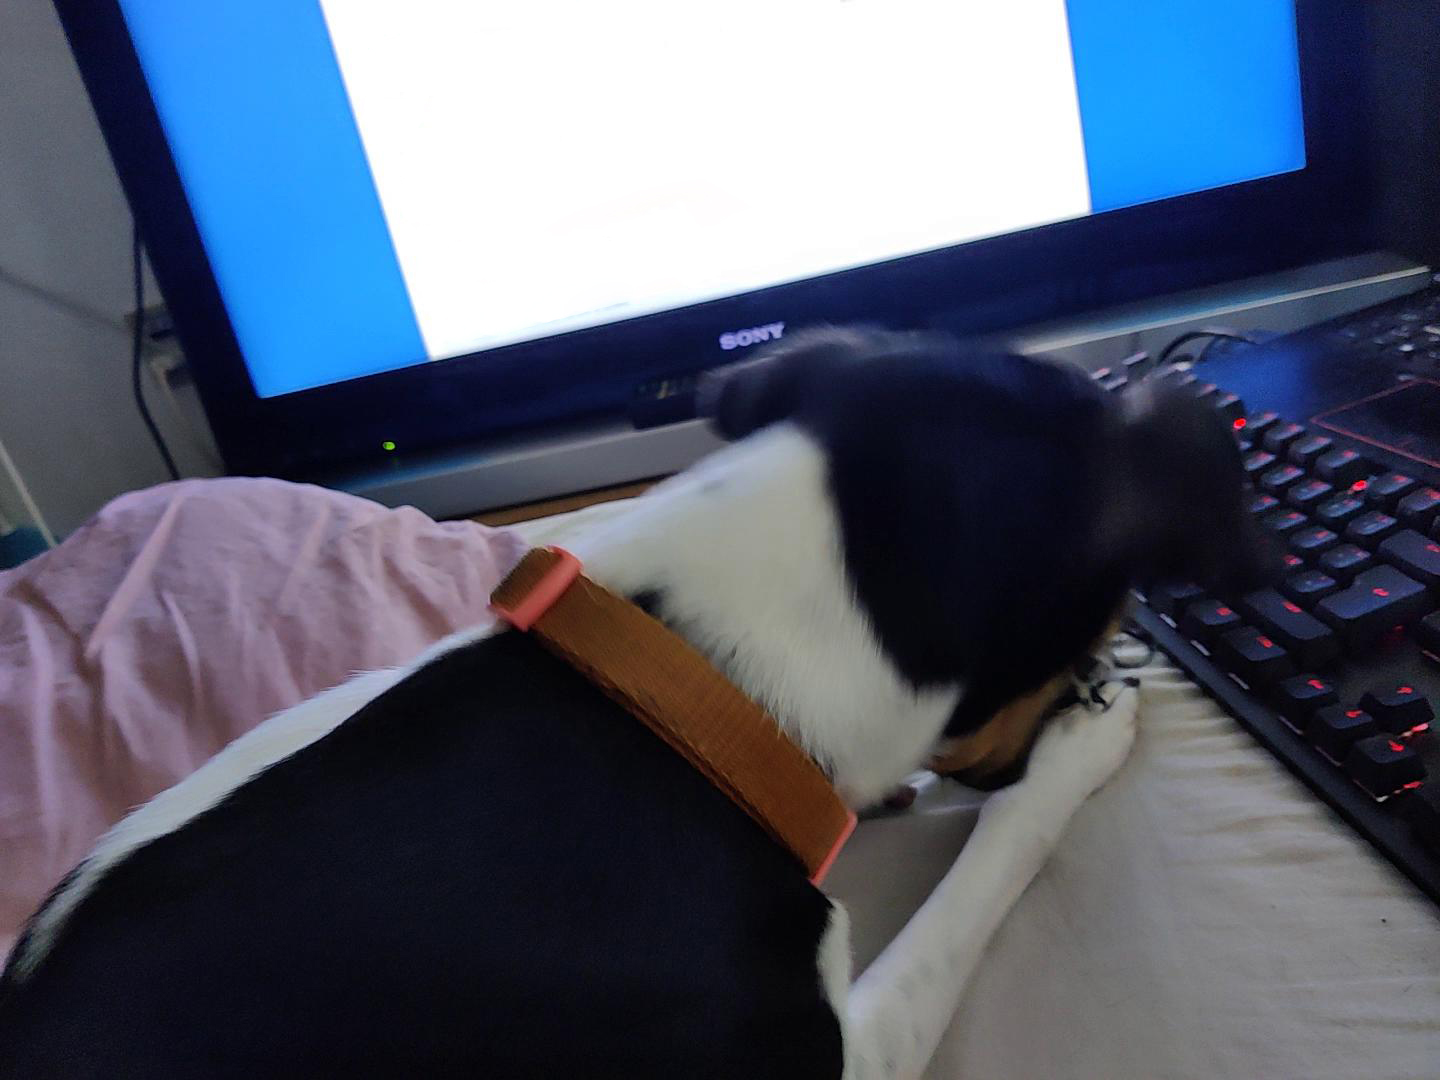Dog: (0, 314, 1294, 1079)
